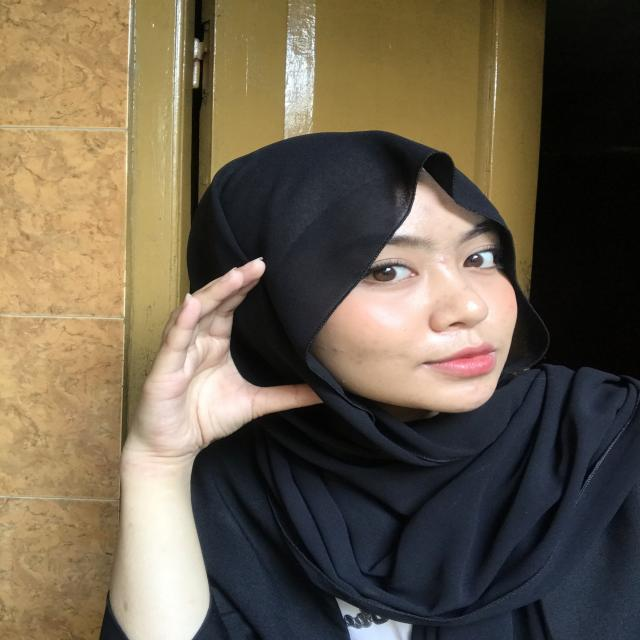mendengar: (135, 249, 315, 458)
